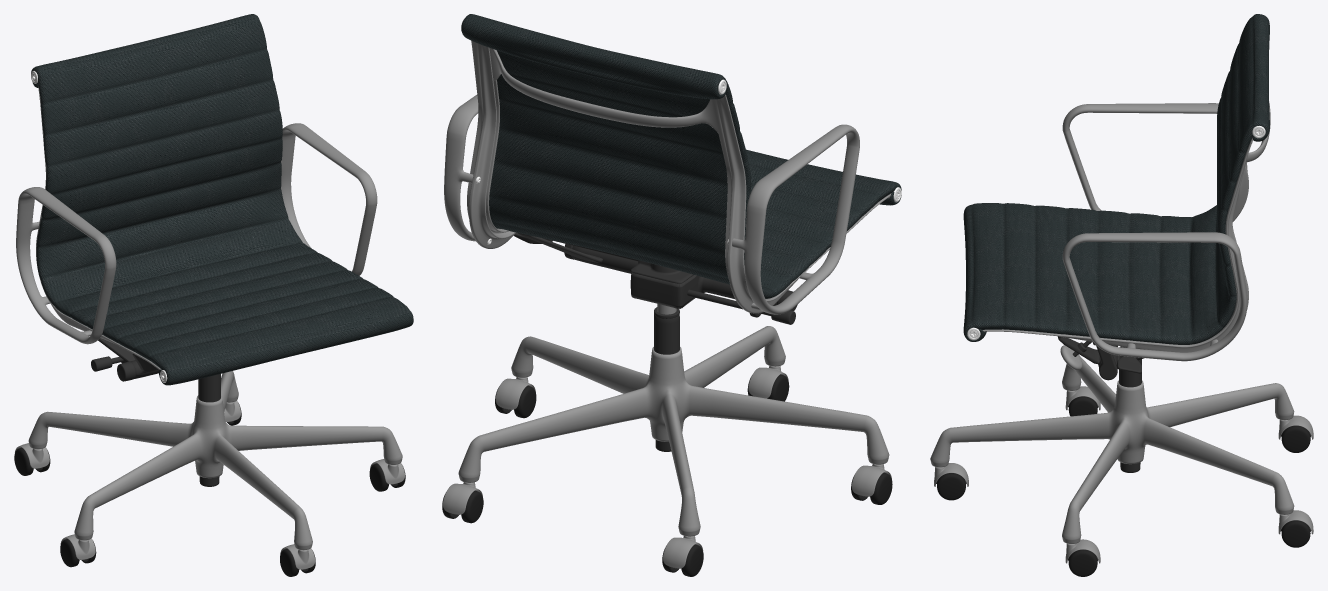
The model's file is Office_Chair_3.glb.
3 renders of one model, left to right at view 1: azimuth 30°, elevation 25°; view 2: azimuth 150°, elevation 25°; view 3: azimuth 270°, elevation 25°, orthographic. The views are drawn at different scales.
Visible parts, largest first — view 1: Office aluminium chair; view 2: Office aluminium chair; view 3: Office aluminium chair.
Part boxes in pixels (<box>): Office aluminium chair: <box>14,14,413,576</box>; Office aluminium chair: <box>442,14,901,576</box>; Office aluminium chair: <box>930,14,1313,576</box>.
Size of the model in its own units: 0.6686 by 0.8056 by 0.6538.
5 materials, 1 textured.
